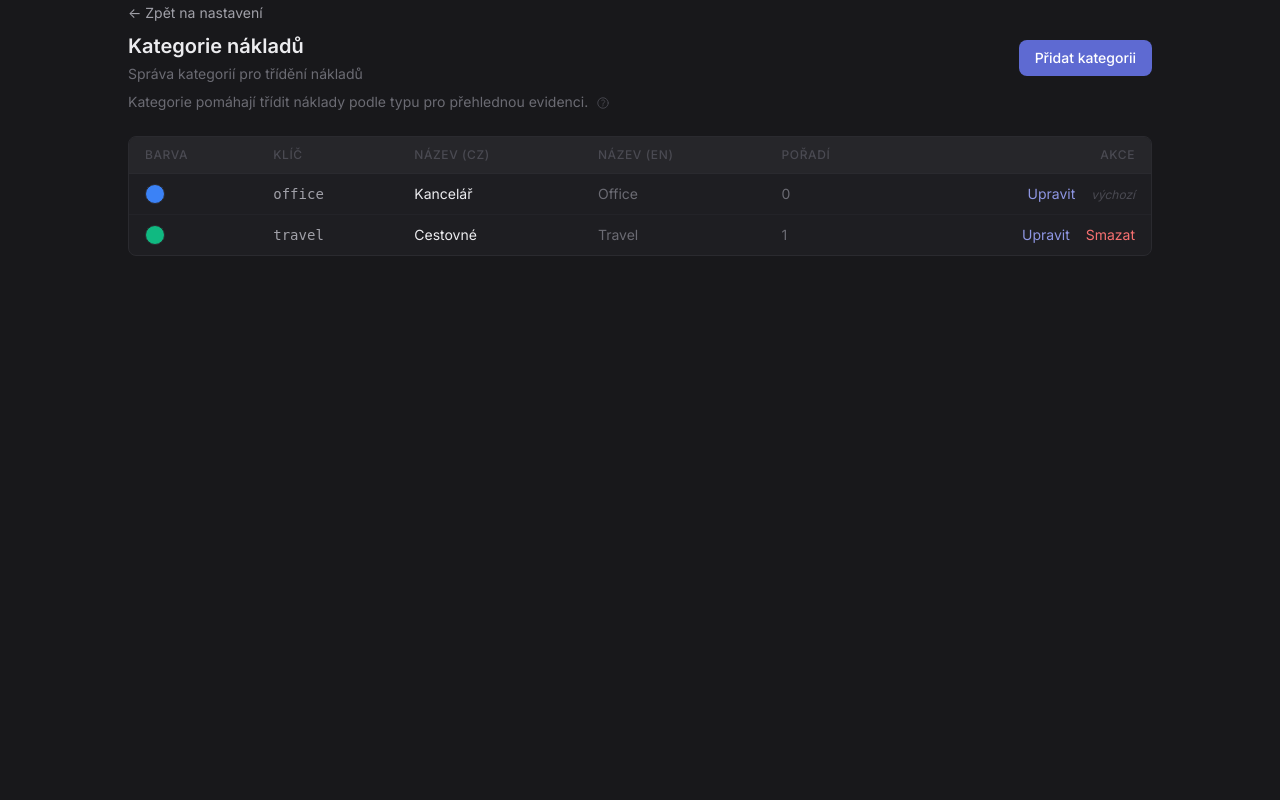
Categories Settings Page › edit button populates form
The image size is (1280, 800).
Expected: the text "office" is shown, [257, 174, 398, 214]
Click the button "Upravit" next to "výchozí".
click(1051, 194)  # box [1028, 184, 1075, 204]
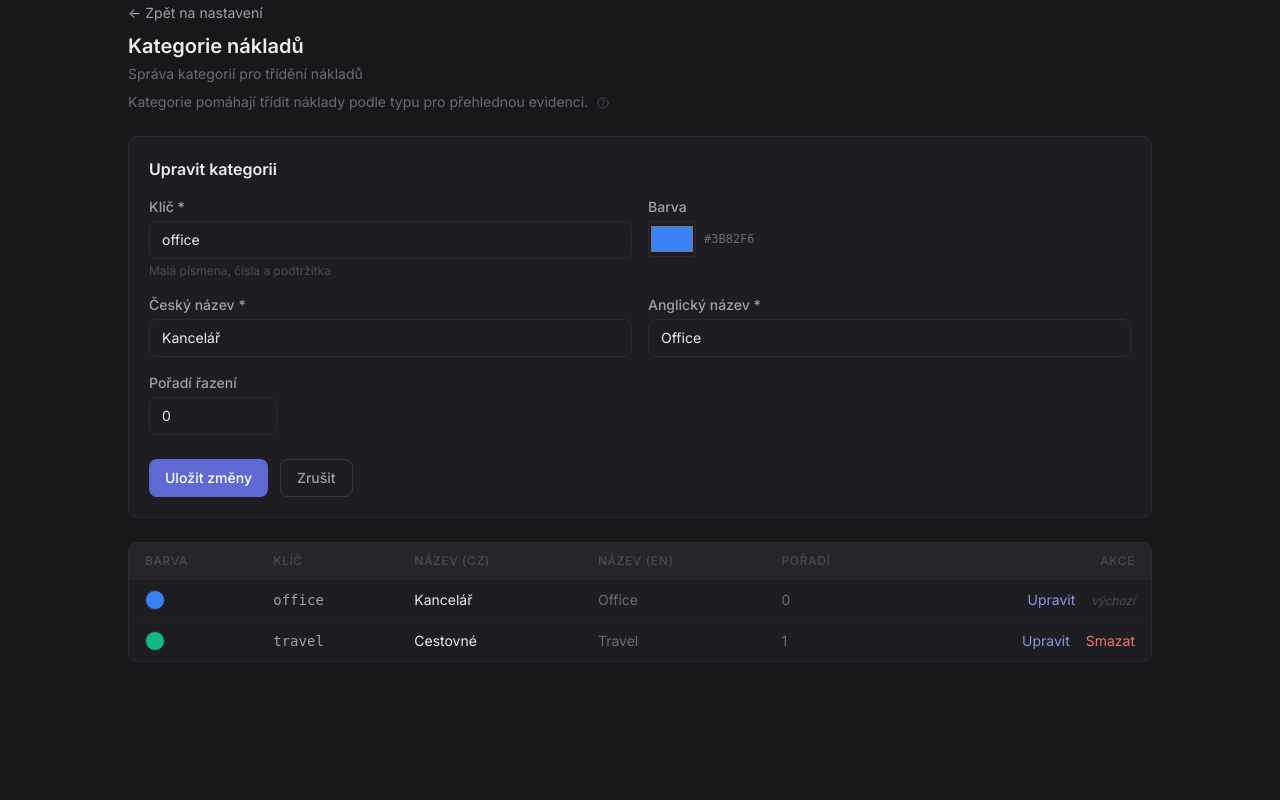
Expected: the heading "Upravit kategorii" is shown, [149, 159, 277, 179]
Expected: the field with id "cat-key" holds "office", [149, 221, 632, 259]
Expected: the field with id "cat-label-cs" holds "Kancelář", [149, 319, 632, 357]
